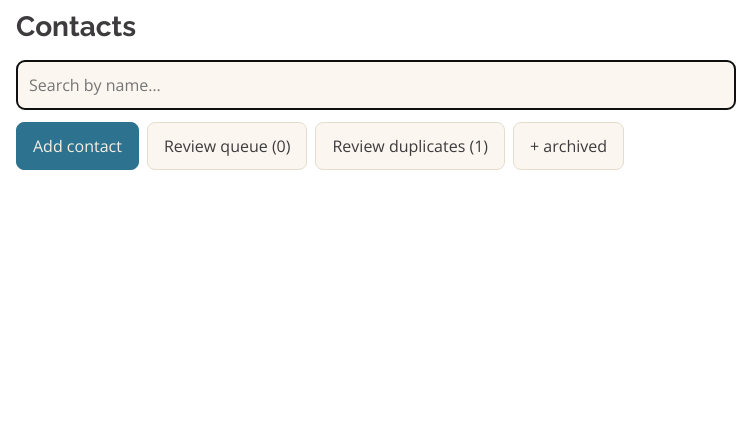
Test: a pair's actions follow whether the row carries the decision › offers only 'open to resolve' when the row is hiding an address
What coordinates should you click on to do the following:
click the button "Review duplicates (1)"
I would click on:
 (410, 146)
Its box is x1=316 y1=122 x2=505 y2=170.
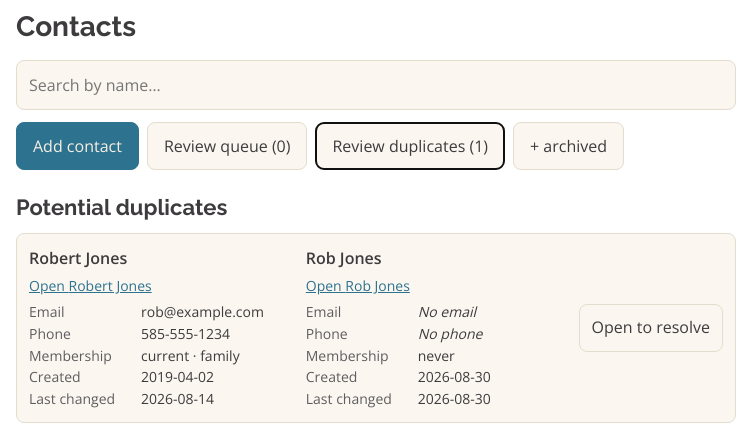
Result: the button "Open to resolve" is shown at x1=578 y1=304 x2=723 y2=352
